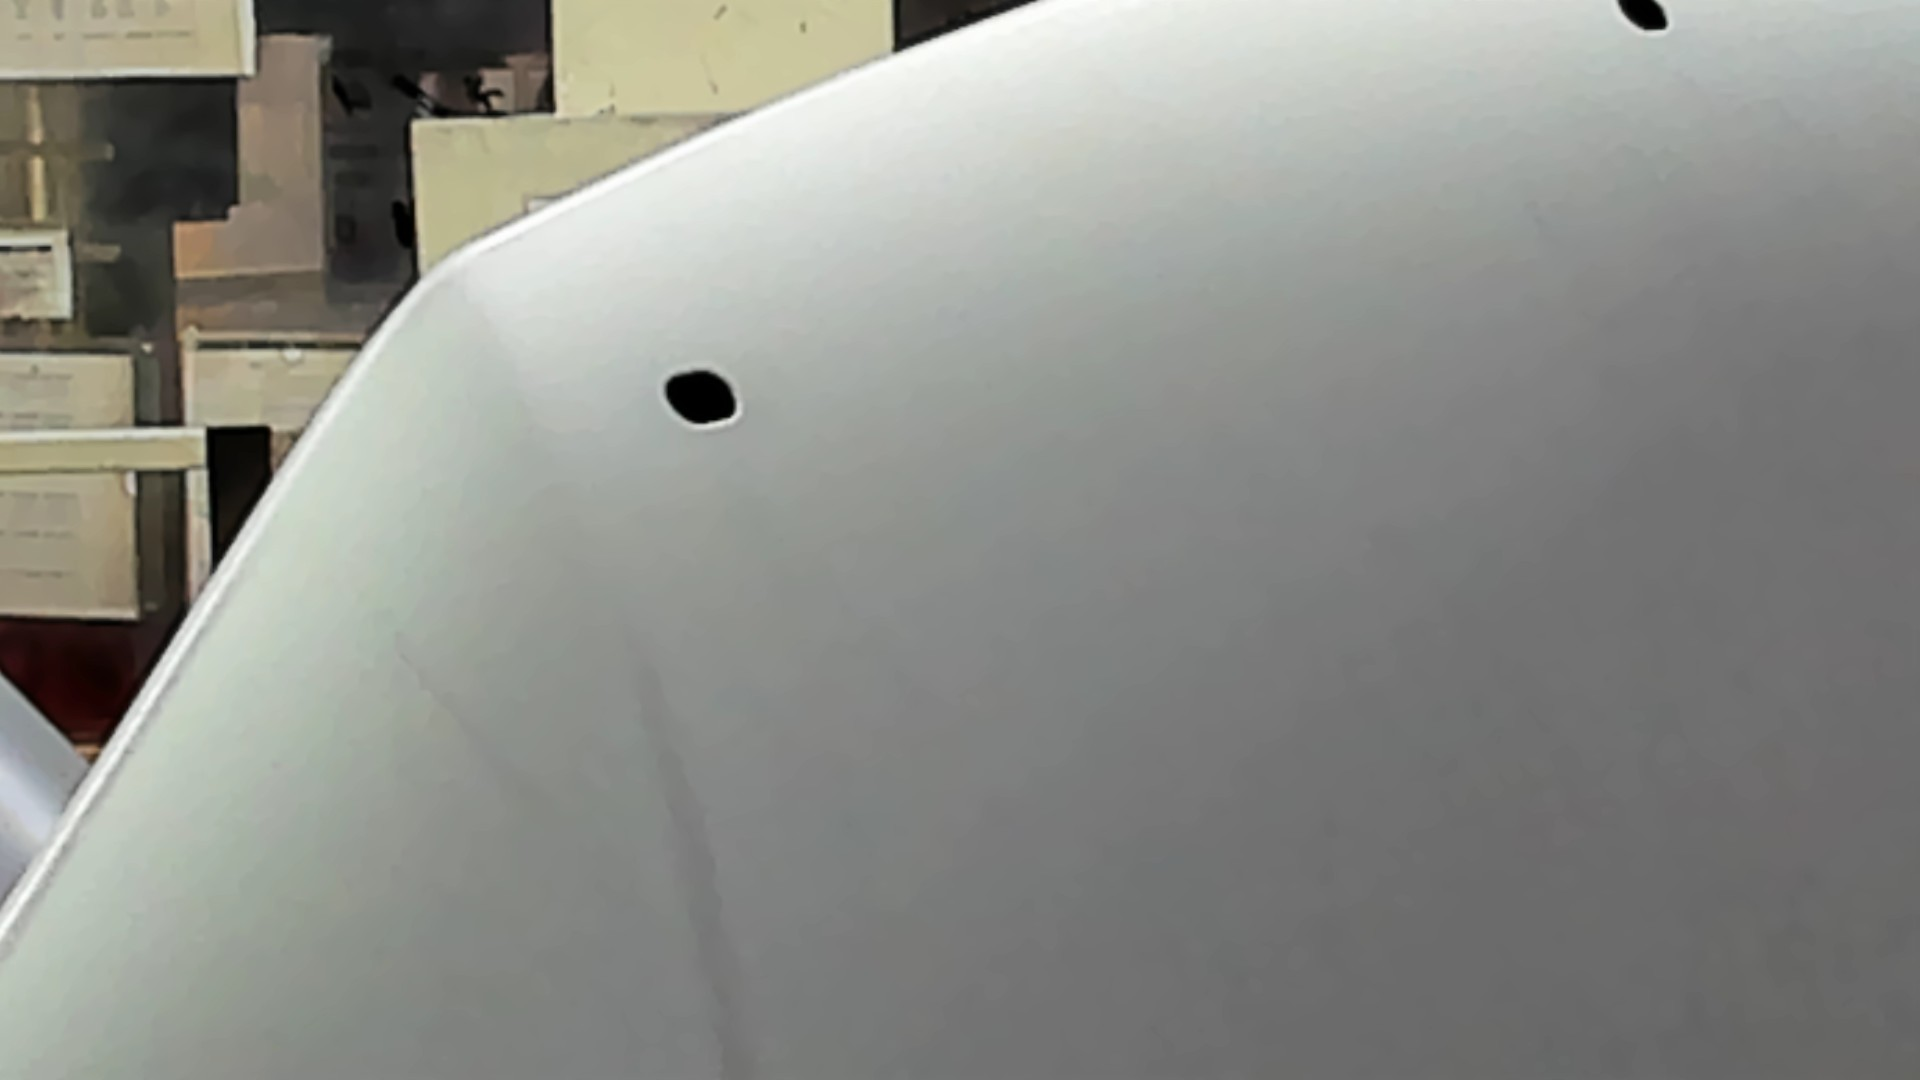amorfo: (655, 365, 740, 427), (1611, 1, 1672, 40)
